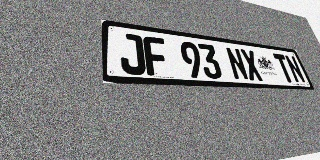3: (197, 43, 223, 79)
9: (179, 41, 205, 78)
F: (143, 36, 170, 76)
J: (119, 32, 146, 75)
N: (225, 47, 250, 80), (284, 55, 306, 83)
T: (272, 53, 296, 83)
X: (239, 49, 264, 81)
